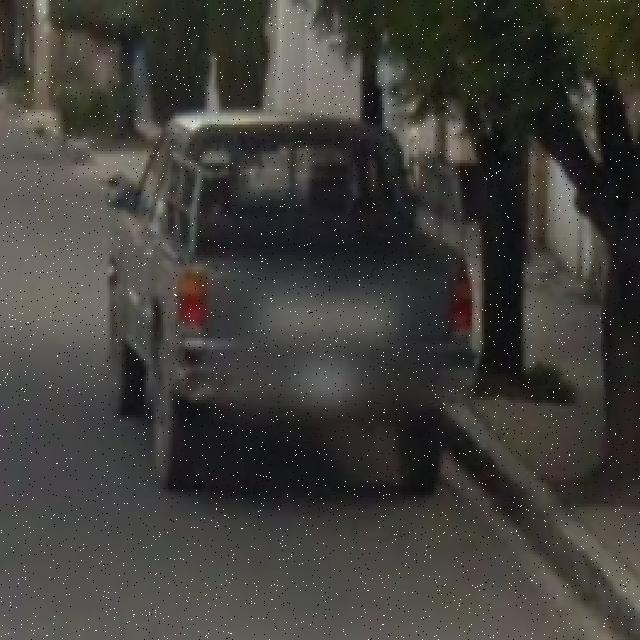cars: (114, 97, 479, 496)
